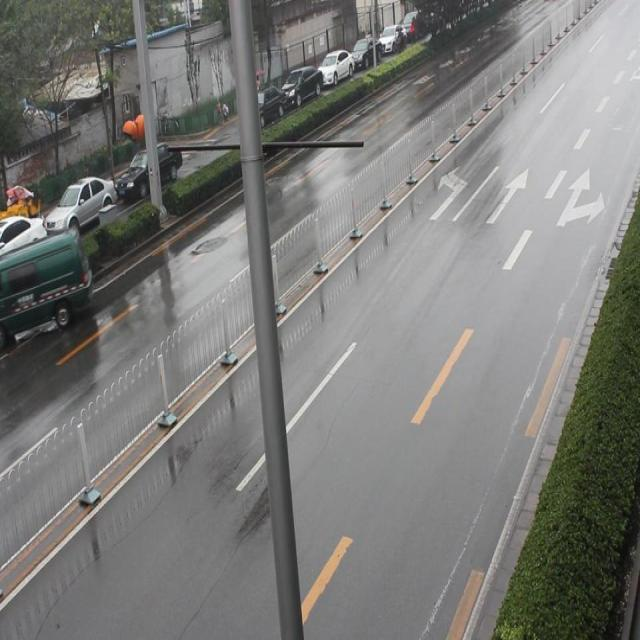truck: (1, 225, 97, 351)
